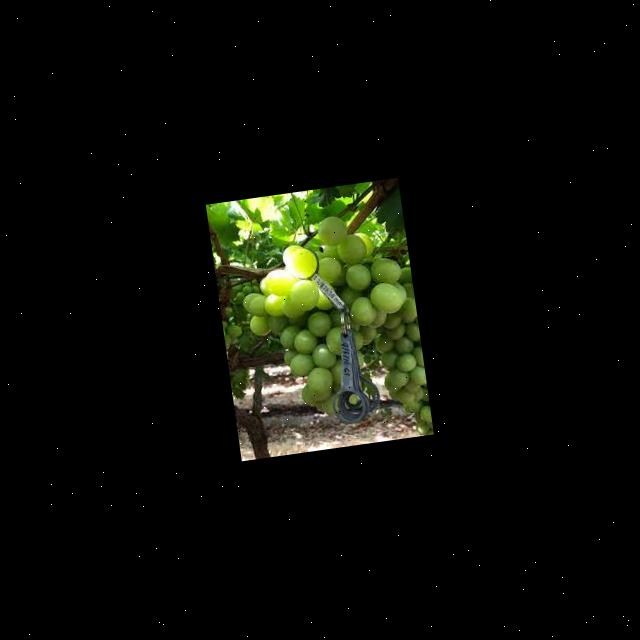grape: (210, 206, 433, 461)
